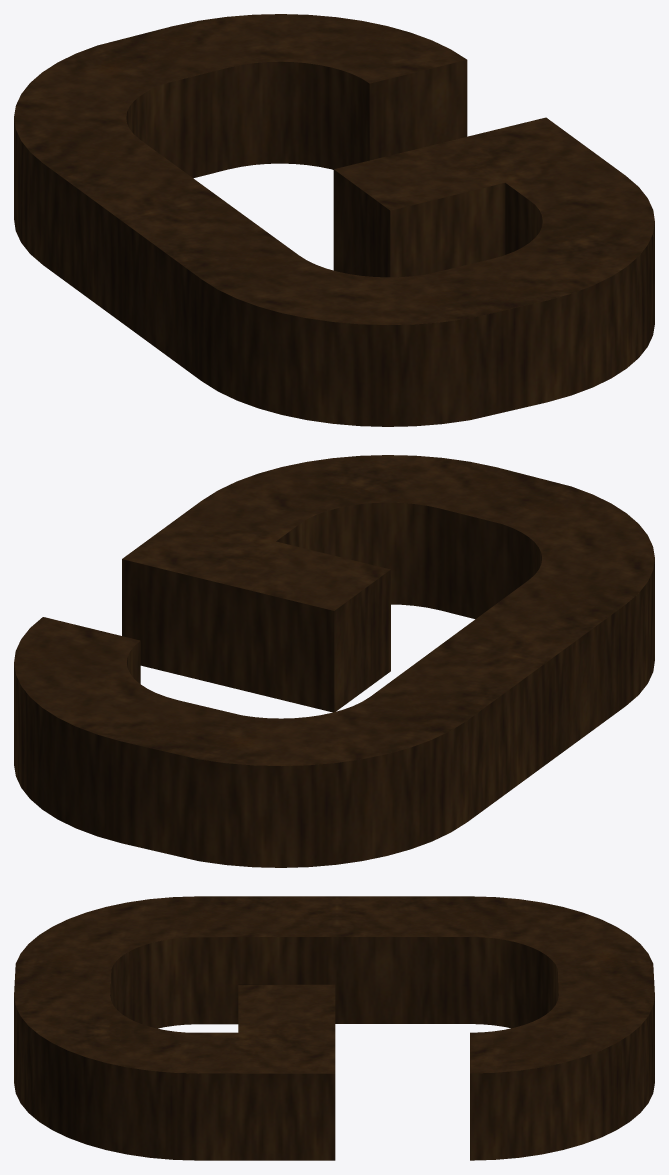
Rendered from LetterG.obj.
3 views of the same model, one above another, from view 1: azimuth 30°, elevation 25°; view 2: azimuth 150°, elevation 25°; view 3: azimuth 270°, elevation 25° (orthographic). The views are drawn at different scales.
Visible parts, largest first — view 1: LetterG; view 2: LetterG; view 3: LetterG.
Boxes of the visible parts, left/top/right/bottom form: LetterG: left=14, top=14, right=654, bottom=426; LetterG: left=14, top=455, right=654, bottom=867; LetterG: left=14, top=896, right=654, bottom=1160.
Size of the model in its own units: 0.6538 by 0.15 by 1.
